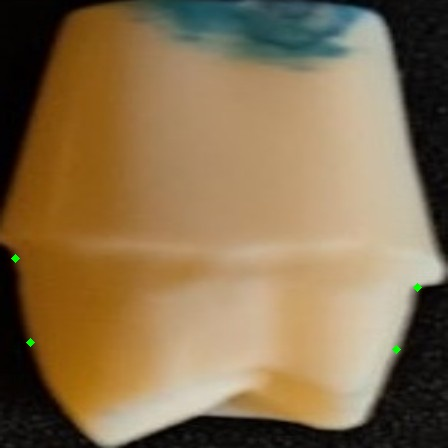coin_1: (15, 258, 35, 278)
coin_2: (30, 342, 50, 362)
coin_3: (417, 287, 437, 307)
coin_4: (396, 349, 416, 369)
